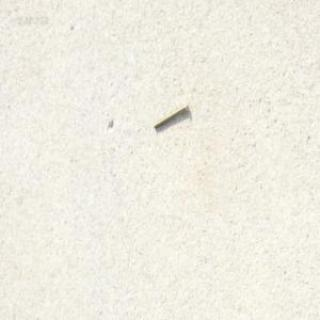Bolttrack_idkeyframe: (152, 100, 188, 128)
